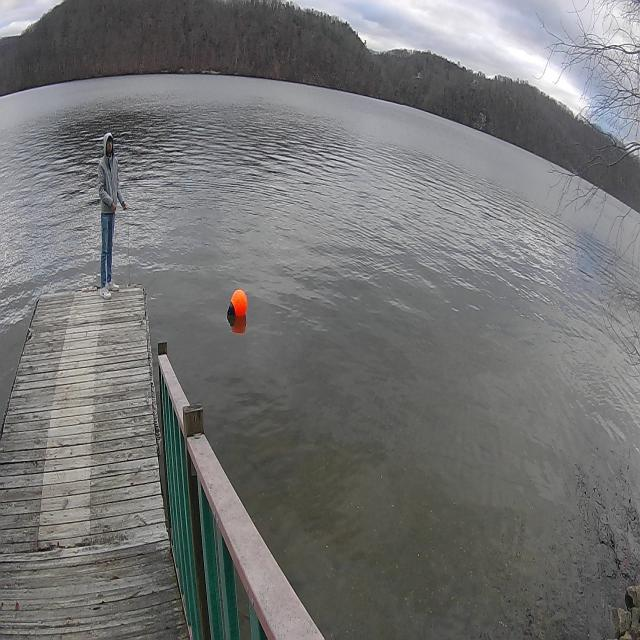Buoy: (225, 279, 250, 327)
